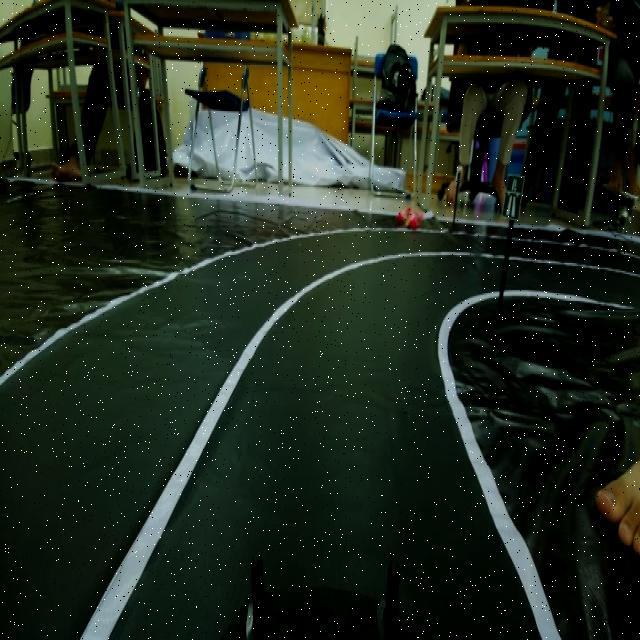highway_entry: (503, 167, 525, 232)
